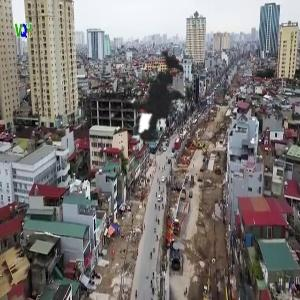drone: (78, 21, 226, 169)
